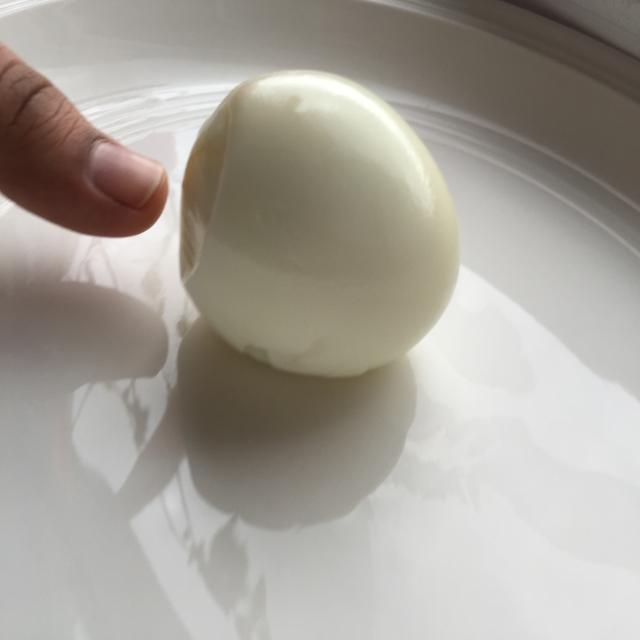Egg: (172, 64, 480, 394)
Finger: (12, 48, 173, 257)
